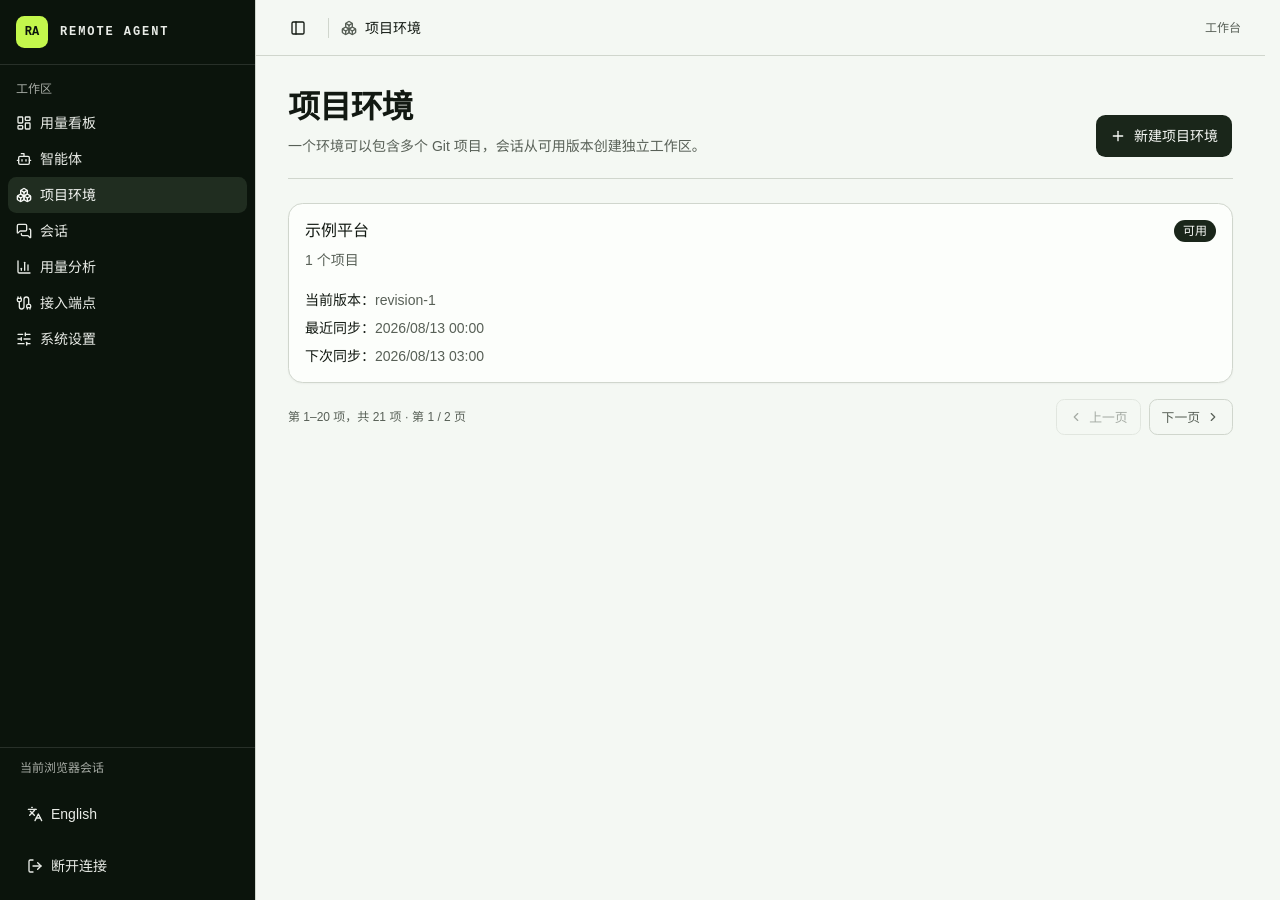
Test: 只在翻页时加载下一页环境
Expected: the link "示例平台" is shown, [305,222,369,239]
Expected: the text "第二页环境" is not shown
Step 1. Click the button "下一页" → click(1191, 417), box [1149,399,1233,435]
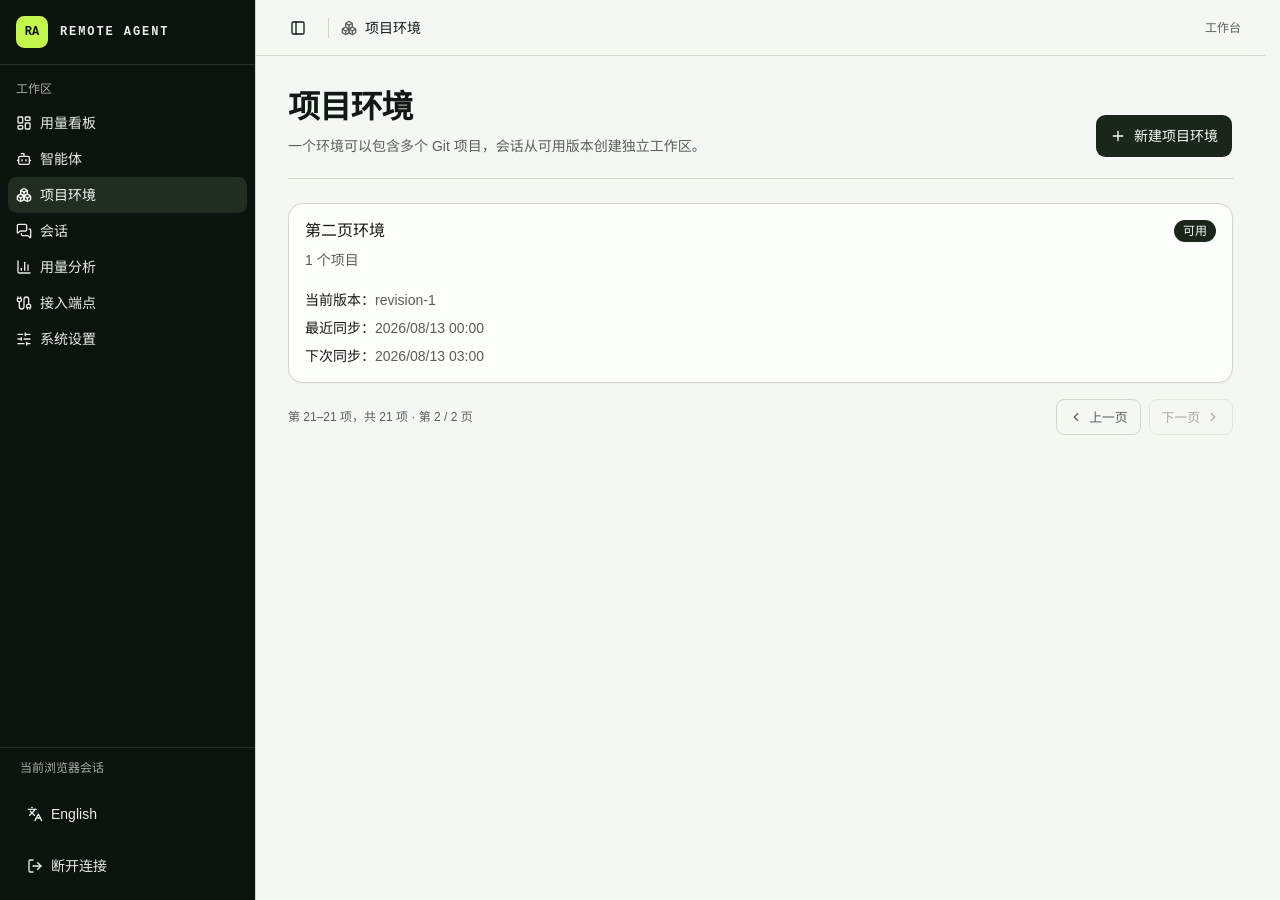
Now the link "第二页环境" is shown, box [305,222,385,239]
Now the link "示例平台" is gone
